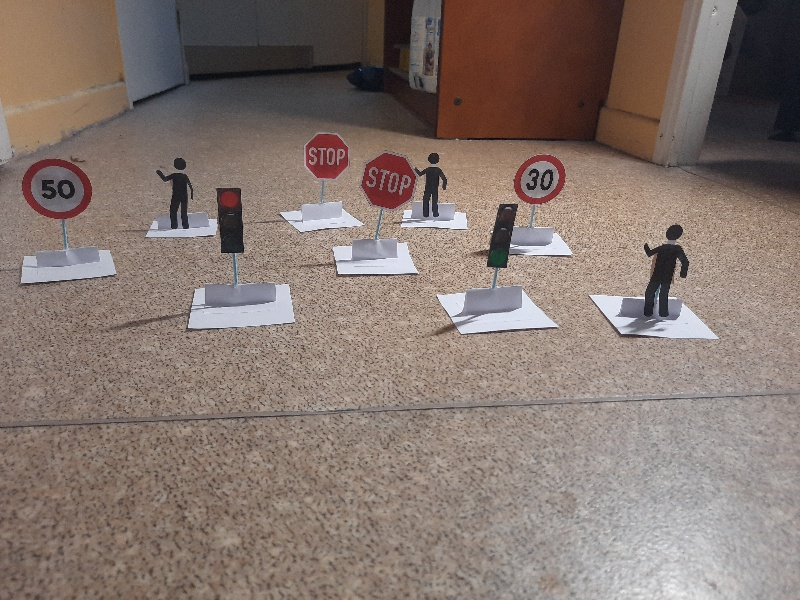Green: (487, 203, 513, 267)
Limit 30: (515, 156, 563, 199)
Limit 50: (23, 160, 90, 217)
Person: (640, 222, 687, 320), (157, 160, 192, 228), (417, 155, 448, 221)
Red: (214, 190, 245, 253)
Stop: (362, 148, 414, 209), (306, 132, 349, 178)
